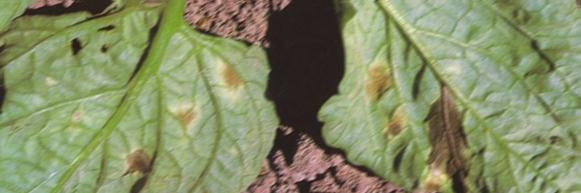Tomato mold leaf: (0, 5, 278, 193), (315, 0, 581, 193)
